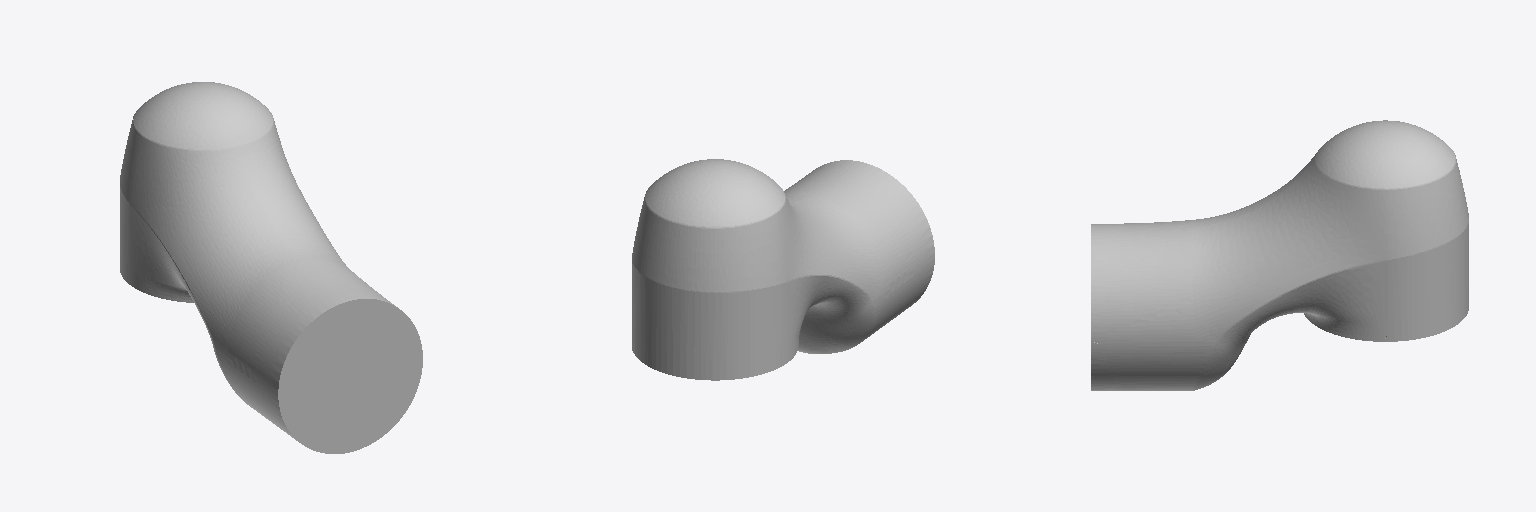
3 renders of one model, left to right at view 1: azimuth 30°, elevation 25°; view 2: azimuth 150°, elevation 25°; view 3: azimuth 270°, elevation 25°, orthographic.
Parts seen in each view (by area): view 1: node0_Part__Feature024; view 2: node0_Part__Feature024; view 3: node0_Part__Feature024.
Boxes of the visible parts, box(x1,y1,x2,y2) form: node0_Part__Feature024: box(120, 82, 422, 453); node0_Part__Feature024: box(632, 159, 934, 380); node0_Part__Feature024: box(1091, 120, 1468, 390).
Bounding box in the file's own units: 0.11 × 0.1844 × 0.249.